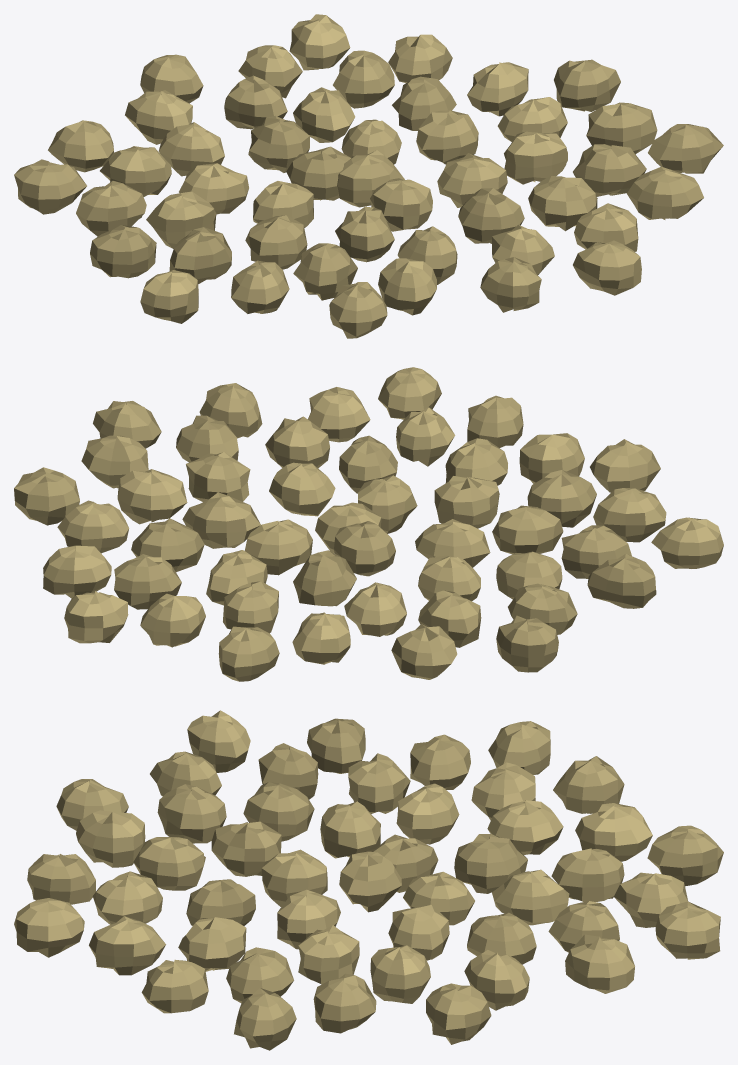
The model's file is Gelatin.glb.
3 views of the same model, one above another, from view 1: azimuth 30°, elevation 25°; view 2: azimuth 150°, elevation 25°; view 3: azimuth 270°, elevation 25° (orthographic). The views are drawn at different scales.
Parts seen in each view (by area): view 1: Gelatin; view 2: Gelatin; view 3: Gelatin.
Part boxes in pixels (box(x1,y1,x2,y2)): Gelatin: box(14, 14, 723, 338); Gelatin: box(14, 367, 723, 681); Gelatin: box(14, 710, 723, 1050).
Size of what is drawn, in the model's own units: 0.0177 by 0.00146 by 0.0172.
